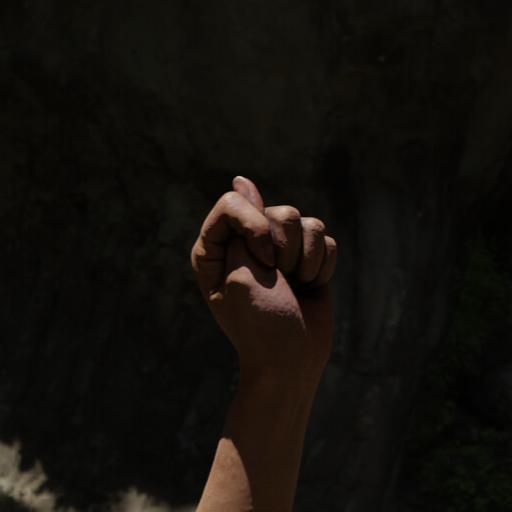T: (180, 167, 349, 397)
